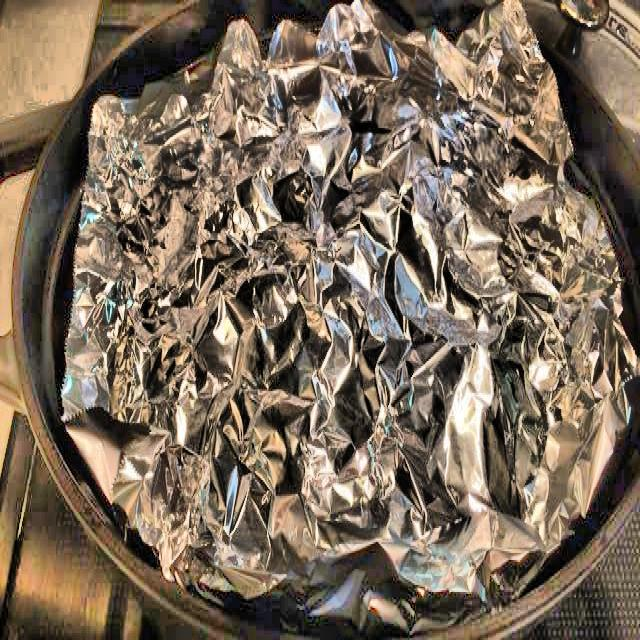Foil: (59, 0, 640, 640)
